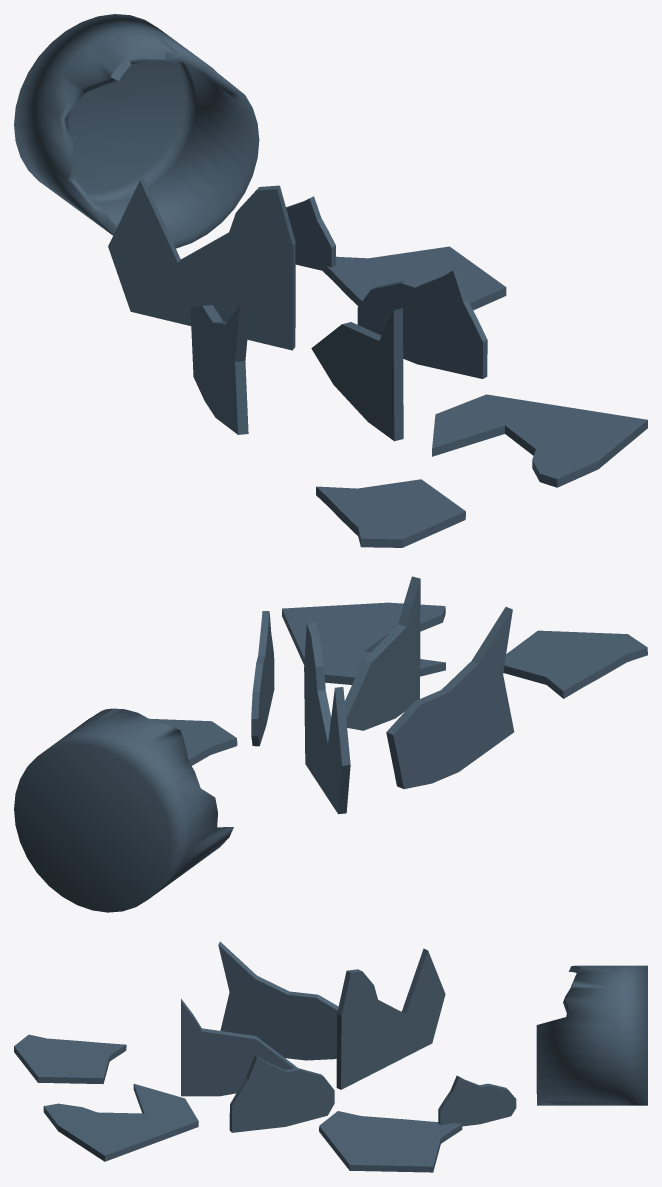
File: BROKEN GLASS.fbx
The picture shows the model from 3 angles, top to bottom: view 1: azimuth 30°, elevation 25°; view 2: azimuth 150°, elevation 25°; view 3: azimuth 270°, elevation 25°; orthographic projection. The views are drawn at different scales.
Parts seen in each view (by area): view 1: BROKENGLASS; view 2: BROKENGLASS; view 3: BROKENGLASS.
Boxes of the visible parts, x1,y1,x2,y2 form: BROKENGLASS: (14, 14, 647, 547); BROKENGLASS: (14, 576, 647, 912); BROKENGLASS: (14, 941, 647, 1172).
Size of the model in its own units: 439 by 207 by 905.
Materials: 1 (1 with a texture image).
